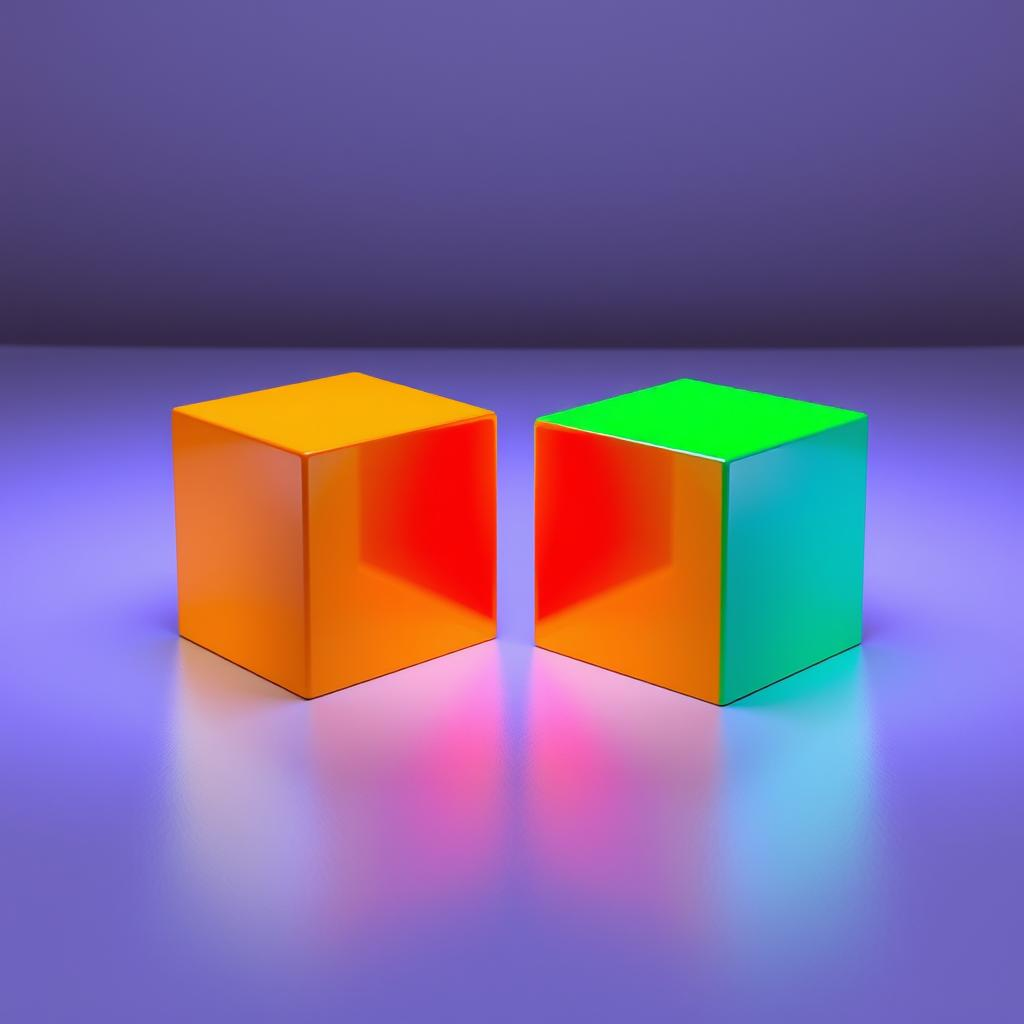cube: (532, 376, 869, 707), (170, 369, 498, 700)
